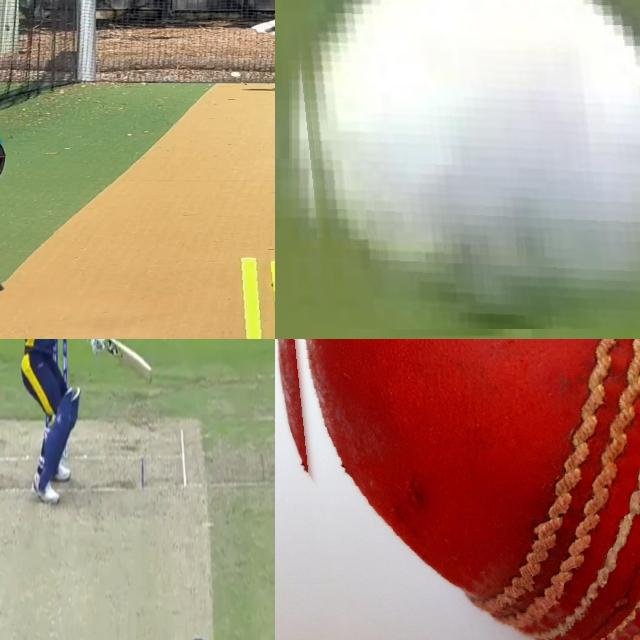Cricket ball: (287, 0, 640, 328), (275, 339, 640, 640), (230, 72, 242, 80)
Stumps: (216, 255, 275, 339)
